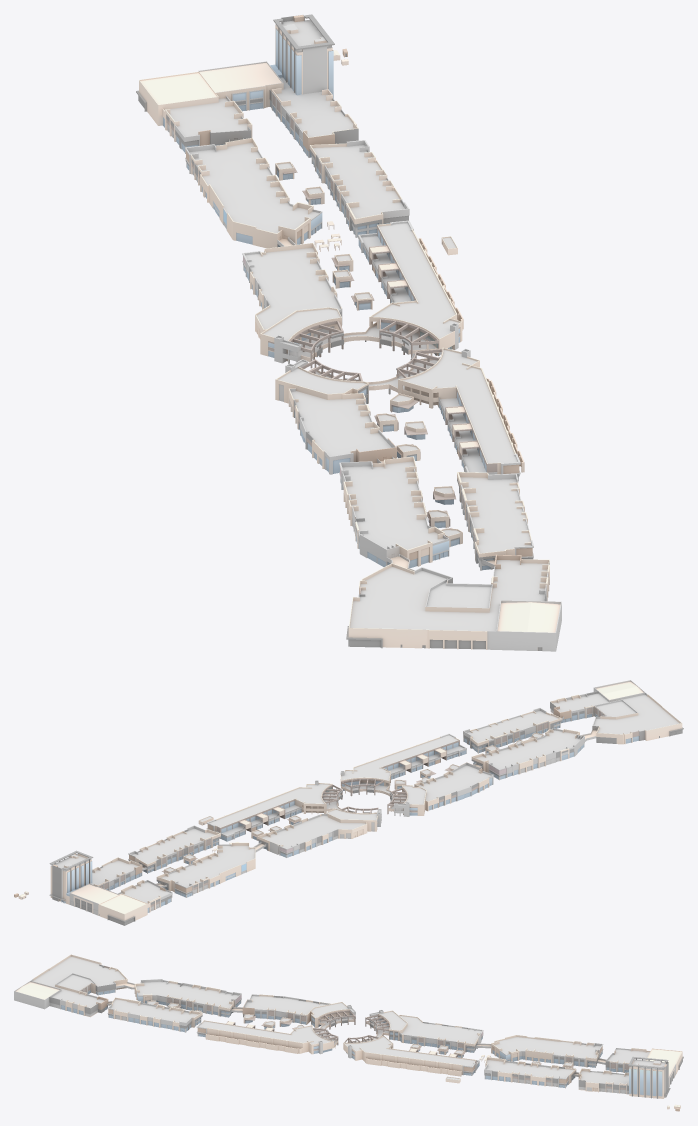
File: Riyadh-Front.glb
3 renders of one model, top to bottom at view 1: azimuth 30°, elevation 25°; view 2: azimuth 150°, elevation 25°; view 3: azimuth 270°, elevation 25°, orthographic. The views are drawn at different scales.
Parts seen in each view (by area): view 1: 70030076202504158.001, 70030076202504106.001, 70030076203717979.001, 70030076203717824.001, 70030076203717728.001, 70030076202504109.001, 70030076202504156.001, 70000001068209476.001, 70030076202504143.001, 70030076202504155.001, 70030076516013499.001; view 2: 70030076202504158.001, 70030076202504106.001, 70030076203717979.001, 70030076203717824.001, 70030076203717728.001, 70030076202504156.001, 70000001068209476.001, 70030076202504109.001, 70030076202504155.001, 70030076202504143.001, 70030076516013499.001; view 3: 70030076202504158.001, 70030076203717728.001, 70030076203717824.001, 70030076203717979.001, 70030076202504109.001, 70030076202504156.001, 70000001068209476.001, 70030076202504106.001, 70030076202504155.001, 70030076202504143.001, 70030076516013499.001.
Boxes of the visible parts, x1=… form: 70030076202504158.001: x1=346, y1=554, x2=561, y2=651; 70030076202504106.001: x1=136, y1=61, x2=358, y2=157; 70030076203717979.001: x1=242, y1=237, x2=353, y2=368; 70030076203717824.001: x1=352, y1=220, x2=463, y2=357; 70030076203717728.001: x1=372, y1=347, x2=524, y2=481; 70030076202504109.001: x1=185, y1=137, x2=322, y2=248; 70030076202504156.001: x1=339, y1=456, x2=449, y2=568; 70000001068209476.001: x1=275, y1=359, x2=396, y2=474; 70030076202504143.001: x1=309, y1=140, x2=409, y2=237; 70030076202504155.001: x1=457, y1=472, x2=533, y2=570; 70030076516013499.001: x1=270, y1=14, x2=334, y2=98; 70030076202504158.001: x1=550, y1=680, x2=683, y2=744; 70030076202504106.001: x1=69, y1=857, x2=172, y2=925; 70030076203717979.001: x1=253, y1=806, x2=381, y2=857; 70030076203717824.001: x1=206, y1=780, x2=342, y2=841; 70030076203717728.001: x1=340, y1=733, x2=466, y2=796; 70030076202504156.001: x1=471, y1=728, x2=584, y2=780; 70000001068209476.001: x1=387, y1=762, x2=493, y2=816; 70030076202504109.001: x1=155, y1=842, x2=255, y2=897; 70030076202504155.001: x1=463, y1=708, x2=561, y2=753; 70030076202504143.001: x1=128, y1=825, x2=220, y2=873; 70030076516013499.001: x1=49, y1=850, x2=93, y2=904; 70030076202504158.001: x1=14, y1=954, x2=134, y2=1017; 70030076203717728.001: x1=196, y1=1020, x2=338, y2=1054; 70030076203717824.001: x1=343, y1=1035, x2=479, y2=1076; 70030076203717979.001: x1=365, y1=1010, x2=490, y2=1052; 70030076202504109.001: x1=491, y1=1035, x2=606, y2=1067; 70030076202504156.001: x1=134, y1=979, x2=242, y2=1017; 70000001068209476.001: x1=242, y1=994, x2=355, y2=1029; 70030076202504106.001: x1=578, y1=1048, x2=683, y2=1094; 70030076202504155.001: x1=107, y1=997, x2=202, y2=1032; 70030076202504143.001: x1=484, y1=1057, x2=578, y2=1088; 70030076516013499.001: x1=628, y1=1056, x2=670, y2=1098.
Bounding box in the file's own units: 397 × 38.77 × 756.
Materials: 32 (32 with a texture image).
